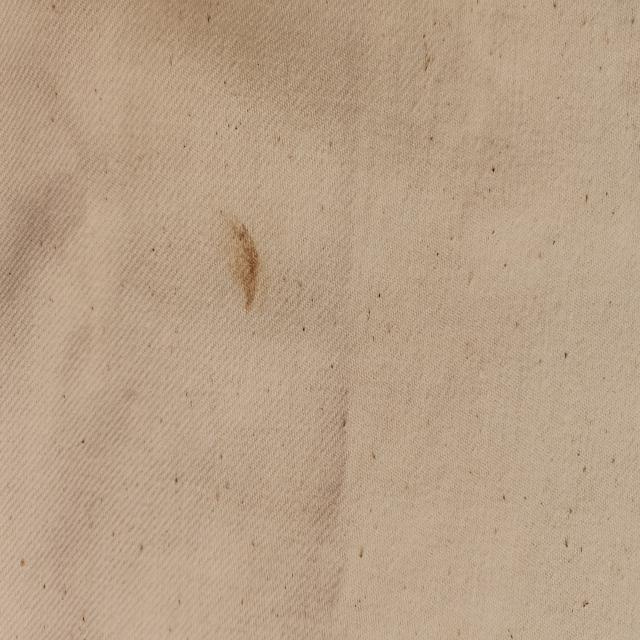taaaches: (224, 214, 262, 316)
